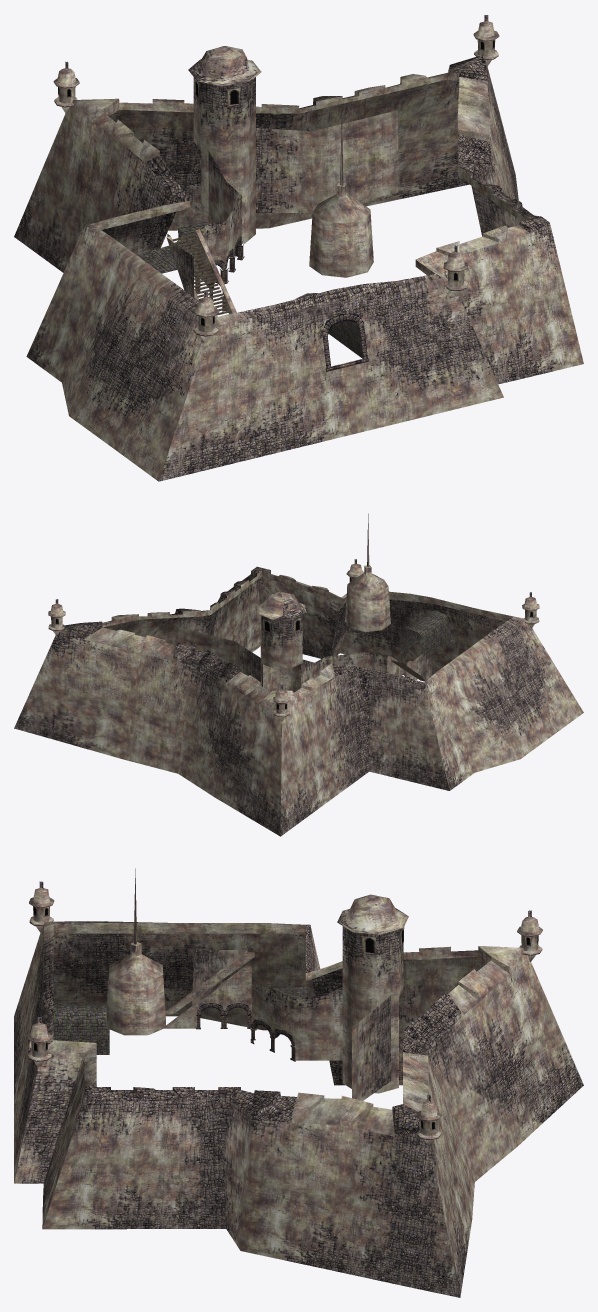
Rendered from pir_m_bld_frt_fortMedium_exterior.fbx.
The picture shows the model from 3 angles, top to bottom: view 1: azimuth 30°, elevation 25°; view 2: azimuth 150°, elevation 25°; view 3: azimuth 270°, elevation 25°; orthographic projection. The views are drawn at different scales.
Parts seen in each view (by area): view 1: polySurface510, Int_walls8, tower14, tower11, Interior, Stairs1, polySurface282, polySurface198, polySurface492, corner_tower14, corner_tower11, corner_tower13 (+1 smaller); view 2: polySurface510, tower14, Int_walls8, tower11, polySurface198; view 3: polySurface510, Int_walls8, tower14, tower11, polySurface282, polySurface198, polySurface492, corner_tower12, corner_tower11, corner_tower13, corner_tower14.
Part boxes in pixels (left/top/right/bottom): polySurface510: left=14, top=55, right=583, bottom=481; Int_walls8: left=166, top=110, right=398, bottom=296; tower14: left=188, top=46, right=261, bottom=243; tower11: left=309, top=183, right=373, bottom=277; Interior: left=136, top=222, right=241, bottom=288; Stairs1: left=172, top=234, right=231, bottom=315; polySurface282: left=167, top=228, right=236, bottom=313; polySurface198: left=296, top=293, right=363, bottom=358; polySurface492: left=92, top=74, right=507, bottom=255; corner_tower14: left=193, top=297, right=219, bottom=342; corner_tower11: left=443, top=252, right=468, bottom=296; corner_tower13: left=53, top=68, right=79, bottom=113; polySurface510: left=14, top=566, right=583, bottom=836; tower14: left=257, top=591, right=306, bottom=692; Int_walls8: left=174, top=626, right=431, bottom=687; tower11: left=345, top=565, right=390, bottom=632; polySurface198: left=399, top=610, right=451, bottom=654; polySurface510: left=14, top=921, right=583, bottom=1297; Int_walls8: left=192, top=950, right=390, bottom=1100; tower14: left=337, top=894, right=408, bottom=1093; tower11: left=106, top=942, right=166, bottom=1035; polySurface282: left=164, top=950, right=254, bottom=1028; polySurface198: left=33, top=1003, right=109, bottom=1054; polySurface492: left=84, top=957, right=509, bottom=1125; corner_tower12: left=416, top=1101, right=441, bottom=1146; corner_tower11: left=26, top=1022, right=52, bottom=1066; corner_tower13: left=517, top=916, right=542, bottom=962; corner_tower14: left=29, top=888, right=54, bottom=932.
Size of the model in its own units: 49238 by 21968 by 42071.
6 materials, 6 textured.
